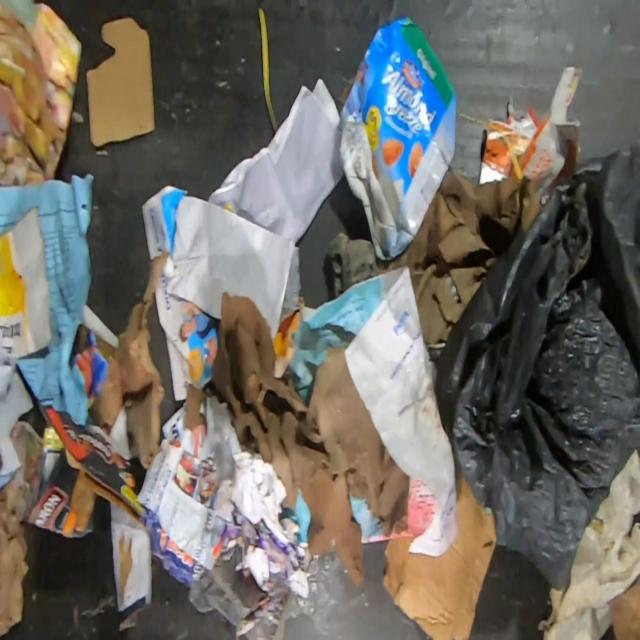cardboard: (334, 14, 457, 263), (382, 473, 496, 640), (477, 65, 583, 229), (23, 401, 146, 539), (0, 0, 83, 186), (86, 17, 156, 147), (0, 204, 54, 359)
soft_plastic: (433, 138, 640, 593)
